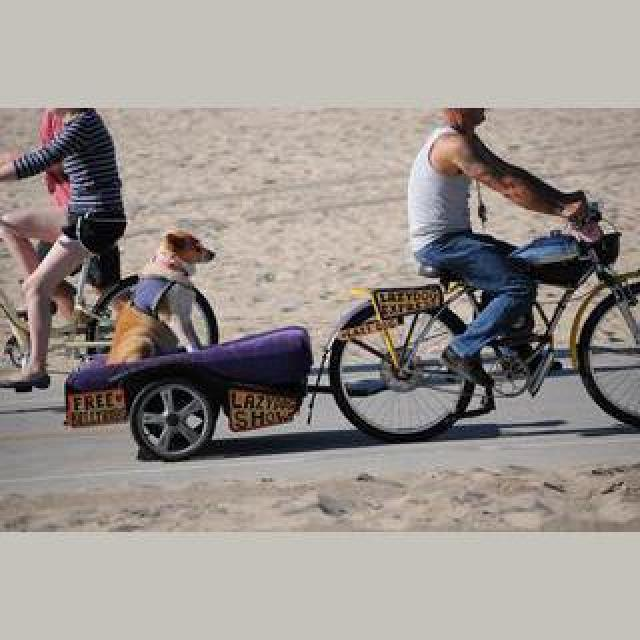MC-Bike: (408, 110, 600, 390), (0, 106, 130, 390)
Person: (322, 211, 640, 443)
